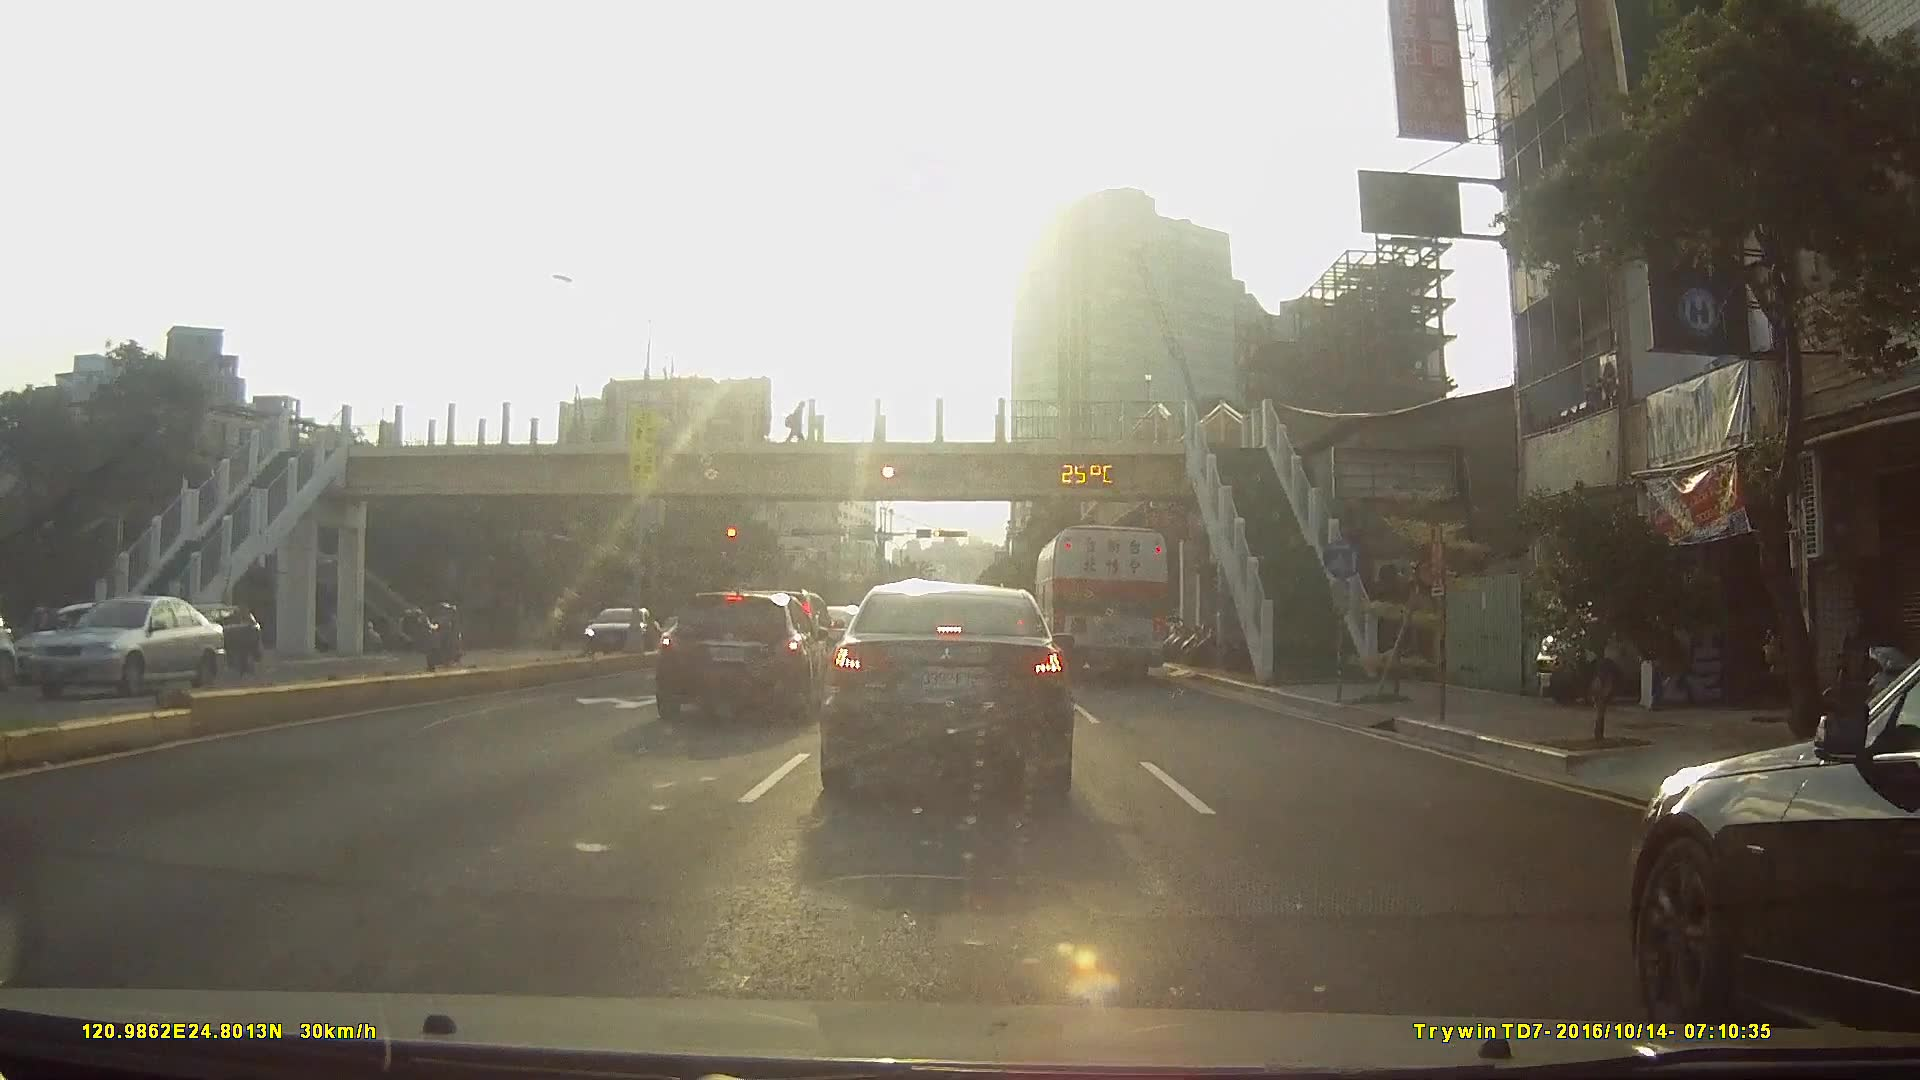pedestrian: (786, 400, 806, 447)
rider: (424, 597, 467, 669)
vehicle: (1612, 632, 1920, 1049), (816, 580, 1076, 799), (647, 585, 832, 724), (4, 594, 211, 702), (1036, 521, 1172, 681), (20, 598, 164, 683), (151, 600, 259, 674), (574, 604, 657, 656)
